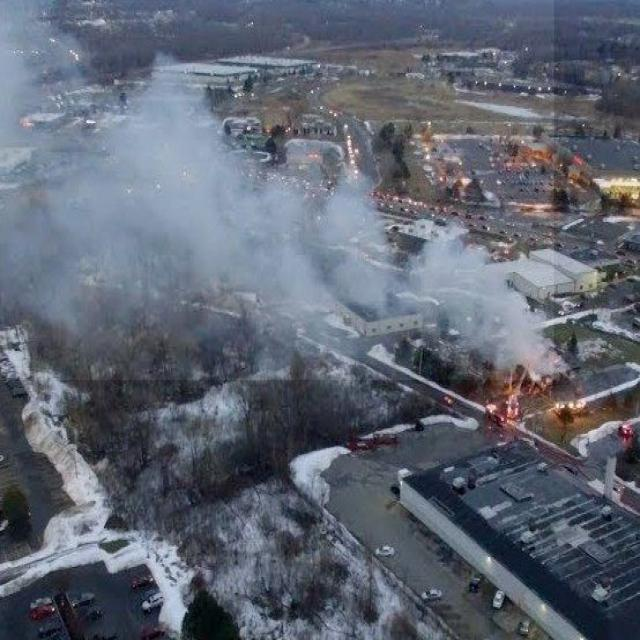Smoke: (0, 0, 554, 380)
